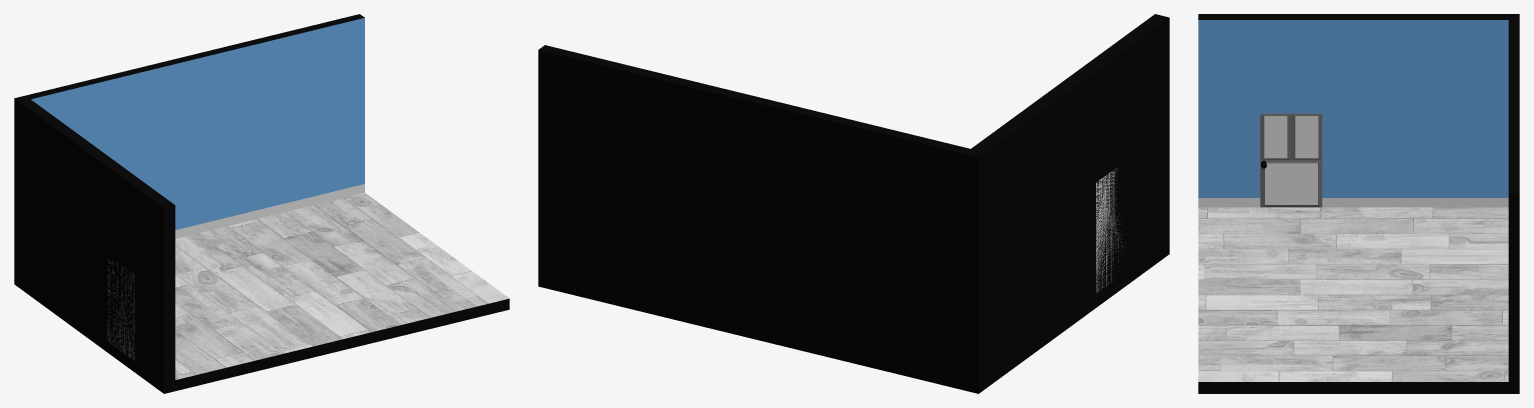
The model's file is BedroomBaseA.glb.
The picture shows the model from 3 angles, left to right: view 1: azimuth 30°, elevation 25°; view 2: azimuth 150°, elevation 25°; view 3: azimuth 270°, elevation 25°; orthographic projection. The views are drawn at different scales.
Parts seen in each view (by area): view 1: Room, Door; view 2: Room, Door; view 3: Room, Door.
Boxes of the visible parts, x1,y1,x2,y2 form: Room: (14,14,509,393); Door: (106,259,134,359); Room: (538,14,1169,393); Door: (1096,168,1123,292); Room: (1198,14,1519,393); Door: (1260,113,1322,207).
Size of the model in its own units: 4.13 by 2.12 by 3.1.
Materials: 7 (1 with a texture image).
